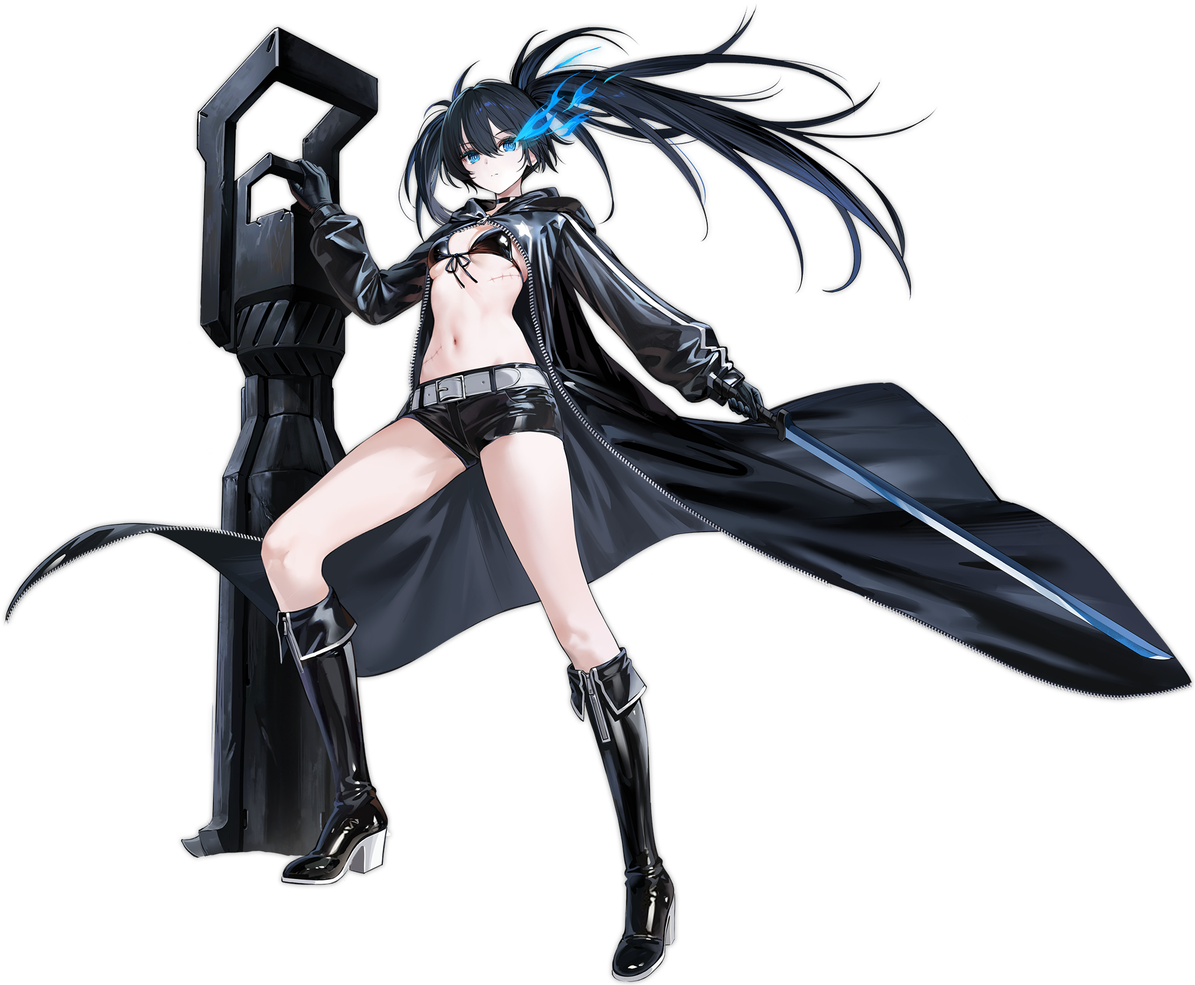person: (12, 8, 811, 977)
